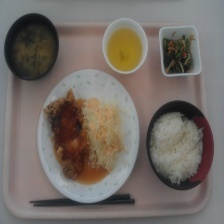rice: (147, 112, 204, 183)
